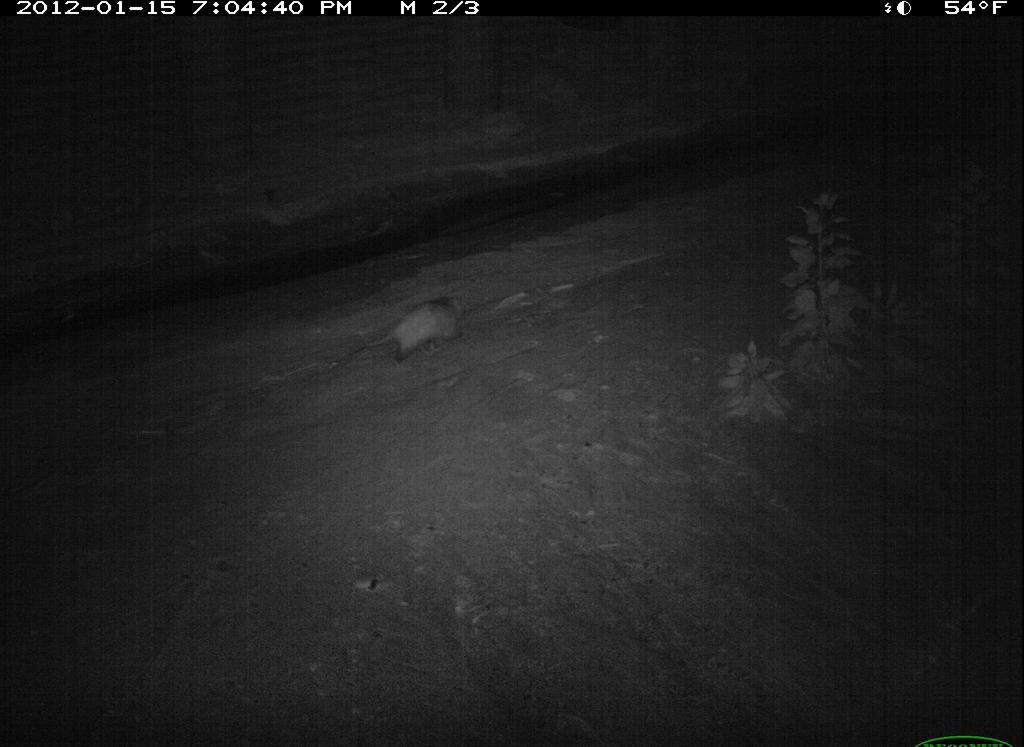opossum: (340, 280, 493, 383)
